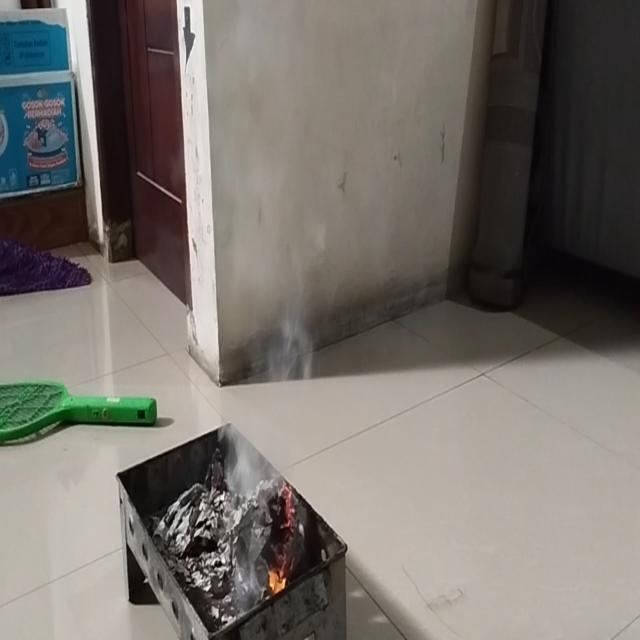fire: (264, 291, 318, 391), (223, 426, 278, 496)
smoke: (263, 558, 292, 600)
